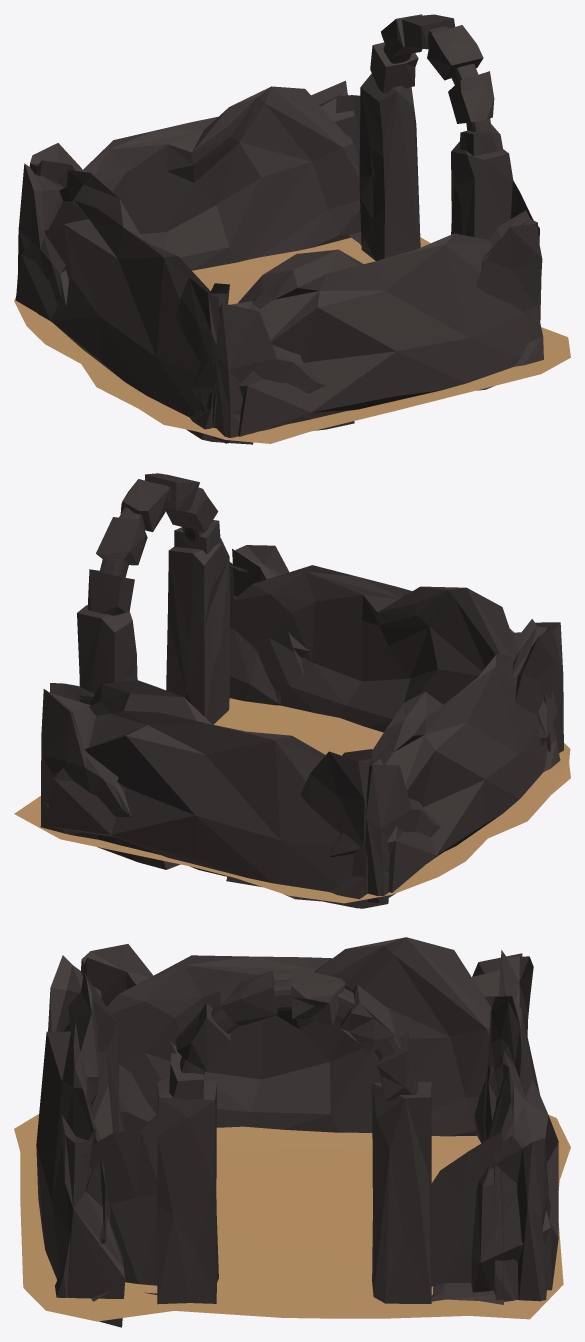
File: ruins.fbx
The picture shows the model from 3 angles, top to bottom: view 1: azimuth 30°, elevation 25°; view 2: azimuth 150°, elevation 25°; view 3: azimuth 270°, elevation 25°; orthographic projection. The views are drawn at different scales.
Visible parts, largest first — view 1: Wall 4.2, Wall 2.2, Wall 3.2, Killer Pillars, Wall 4.1, Ground, Rock Blocks, Wall 3.1, Wall 2.1, Tall Wall, Brick Stick; view 2: Wall 2.2, Wall 4.2, Wall 3.2, Killer Pillars, Wall 2.1, Ground, Wall 3.1, Rock Blocks, Wall 4.1, Brick Stick, Tall Wall; view 3: Wall 3.2, Ground, Killer Pillars, Tall Wall, Wall 4.2, Wall 2.2, Rock Blocks, Wall 2.1, Wall 4.1, Wall 3.1, Brick Stick.
Part boxes in pixels (<box>): Wall 4.2: <box>192,233,529,436</box>; Wall 2.2: <box>66,86,360,270</box>; Wall 3.2: <box>15,170,210,416</box>; Killer Pillars: <box>359,73,513,260</box>; Wall 4.1: <box>201,210,543,443</box>; Ground: <box>14,237,570,443</box>; Rock Blocks: <box>370,14,502,156</box>; Wall 3.1: <box>16,163,253,444</box>; Wall 2.1: <box>29,80,359,187</box>; Tall Wall: <box>336,95,539,245</box>; Brick Stick: <box>383,26,491,131</box>; Wall 2.2: <box>45,680,353,891</box>; Wall 4.2: <box>230,565,557,745</box>; Wall 3.2: <box>330,654,547,892</box>; Killer Pillars: <box>77,538,230,724</box>; Wall 2.1: <box>40,689,388,908</box>; Ground: <box>14,698,570,903</box>; Wall 3.1: <box>365,619,560,902</box>; Rock Blocks: <box>87,473,220,615</box>; Wall 4.1: <box>229,545,563,752</box>; Brick Stick: <box>99,483,202,577</box>; Tall Wall: <box>50,562,248,701</box>; Wall 3.2: <box>107,937,491,1136</box>; Ground: <box>14,1114,570,1321</box>; Killer Pillars: <box>157,1077,431,1304</box>; Tall Wall: <box>82,1113,503,1304</box>; Wall 4.2: <box>36,972,125,1279</box>; Wall 2.2: <box>470,996,558,1292</box>; Rock Blocks: <box>169,967,417,1100</box>; Wall 2.1: <box>474,950,550,1301</box>; Wall 4.1: <box>48,955,125,1327</box>; Wall 3.1: <box>81,944,522,1131</box>; Brick Stick: <box>180,979,401,1075</box>.
Size of the model in its own units: 926 by 635 by 924.
